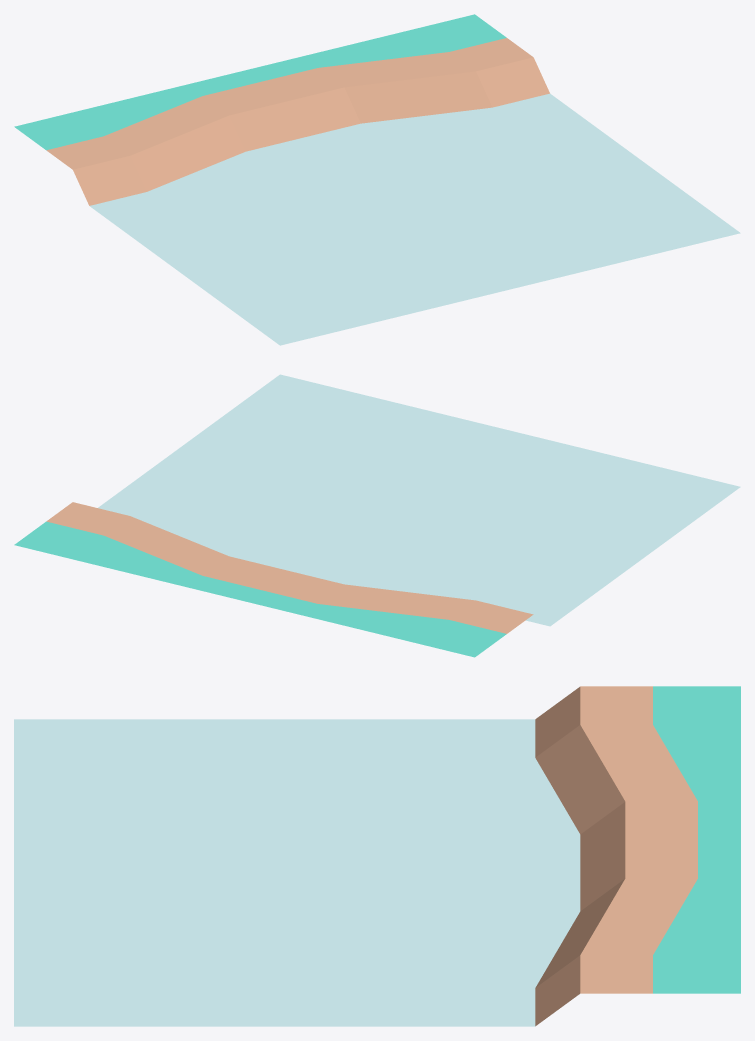
File: ground_riverside.glb
The picture shows the model from 3 angles, top to bottom: view 1: azimuth 30°, elevation 25°; view 2: azimuth 150°, elevation 25°; view 3: azimuth 270°, elevation 25°; orthographic projection. The views are drawn at different scales.
Parts seen in each view (by area): view 1: ground_riverSide; view 2: ground_riverSide; view 3: ground_riverSide.
Part boxes in pixels (x1,y1,x2,y2): ground_riverSide: [14, 14, 740, 345]; ground_riverSide: [14, 374, 740, 657]; ground_riverSide: [14, 686, 740, 1026].
Size of the model in its own units: 1 by 0.05 by 1.
